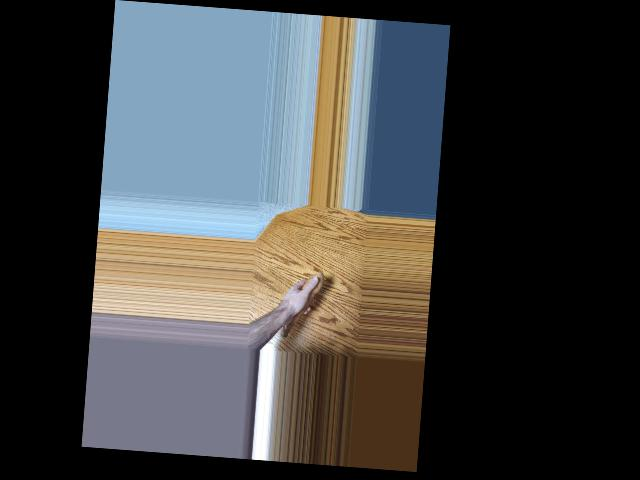sweet_potato: (278, 268, 325, 351)
